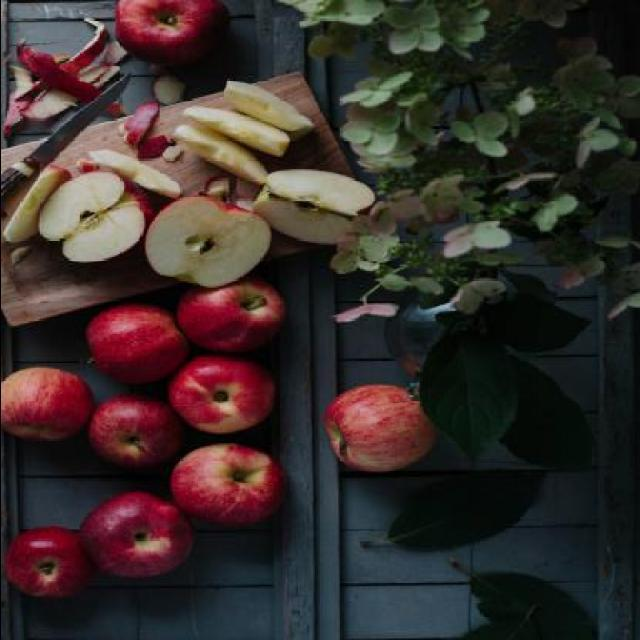Apple pie: (1, 278, 285, 600), (0, 79, 378, 292), (58, 492, 180, 582), (321, 383, 430, 471), (108, 0, 230, 66)
